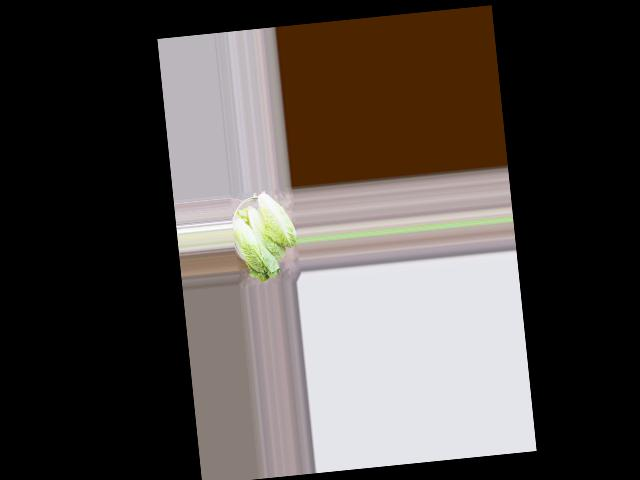lettuce: (230, 206, 281, 281)
